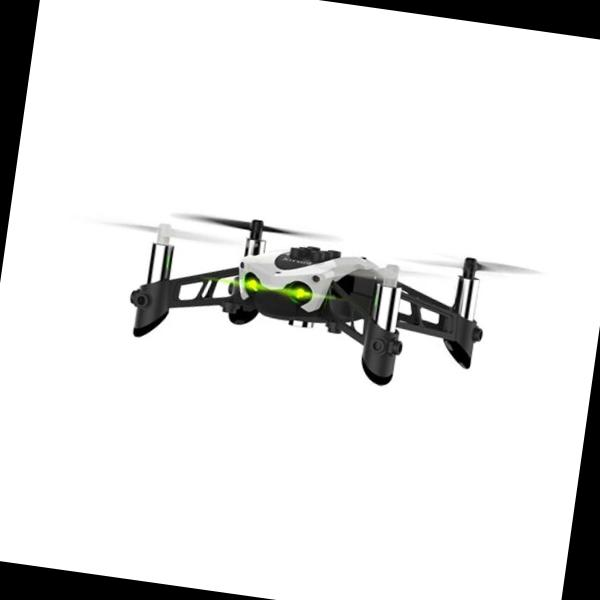drone: (96, 192, 522, 408)
